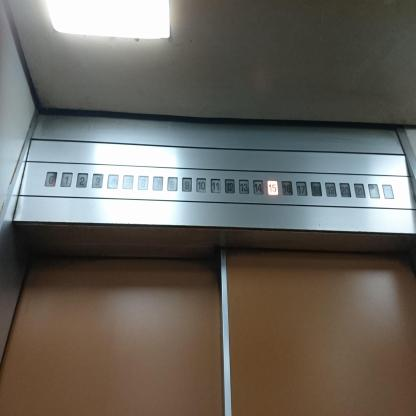1: (59, 171, 73, 188)
10: (195, 178, 207, 192)
11: (210, 178, 220, 192)
12: (224, 178, 235, 194)
13: (238, 178, 250, 194)
14: (252, 179, 264, 195)
15: (266, 179, 278, 196)
16: (281, 180, 294, 196)
17: (295, 180, 308, 196)
18: (310, 181, 322, 197)
19: (324, 181, 337, 198)
2: (74, 171, 88, 188)
20: (338, 182, 352, 198)
21: (353, 182, 366, 198)
3: (91, 173, 103, 188)
4: (107, 174, 118, 188)
5: (122, 174, 134, 190)
6: (136, 175, 148, 190)
7: (152, 175, 164, 191)
8: (166, 176, 178, 191)
9: (181, 176, 192, 192)
G: (44, 171, 58, 187)
empty: (381, 183, 395, 199), (367, 183, 380, 199)
